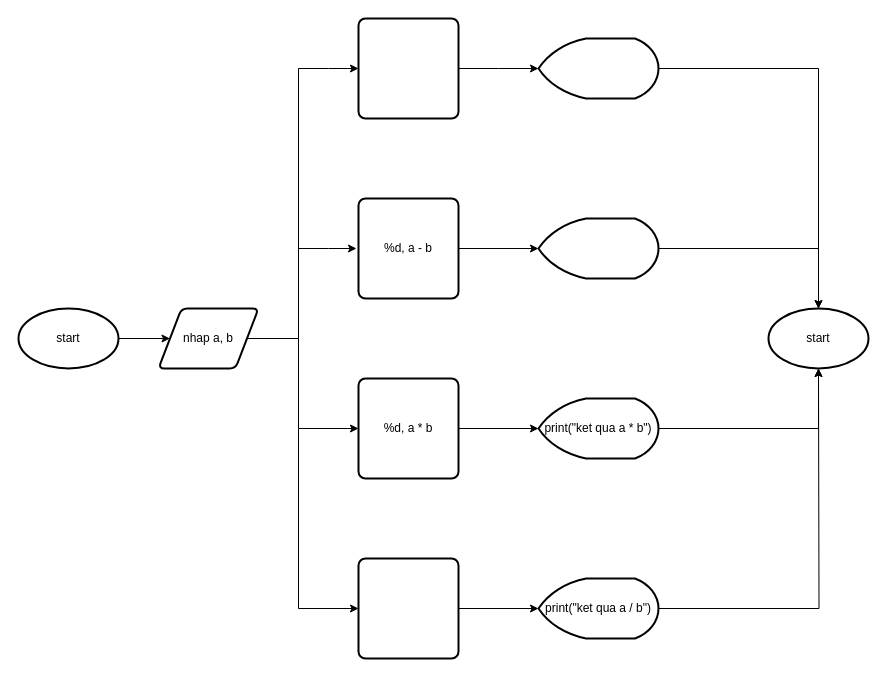
Image size: 886x676. Some labels were removed from this diagram. The shapes that lost their labels are listed below. From the top down, each one's centre as x and y in pixels, then its label:
the point at 408,68: %d, a + b
the point at 598,68: print("ket qua a + b")
the point at 598,248: print("ket qua a - b")
the point at 408,608: %d, a / b
